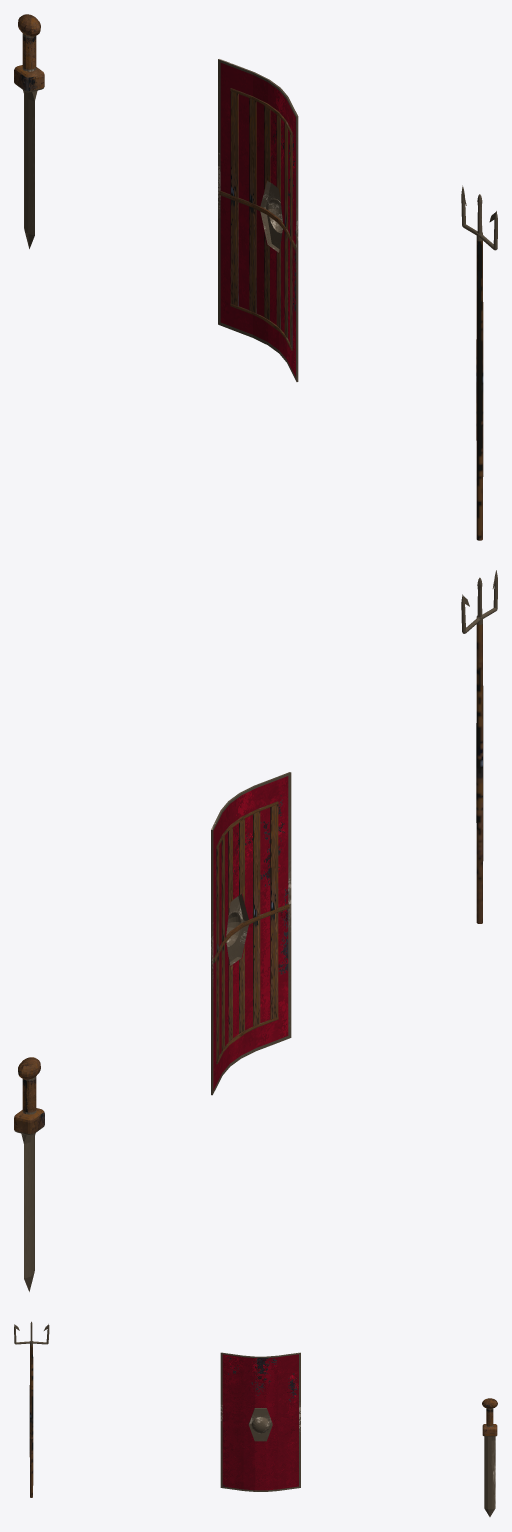
The model's file is Ausrüstung.fbx.
The picture shows the model from 3 angles, top to bottom: view 1: azimuth 30°, elevation 25°; view 2: azimuth 150°, elevation 25°; view 3: azimuth 270°, elevation 25°; orthographic projection. The views are drawn at different scales.
Parts seen in each view (by area): view 1: Scutum, Spatha, Tridens; view 2: Scutum, Spatha, Tridens; view 3: Scutum, Spatha, Tridens.
Part boxes in pixels (x1,y1,x2,y2): Scutum: (218, 59, 298, 381); Spatha: (14, 14, 44, 248); Tridens: (461, 185, 497, 540); Scutum: (211, 772, 291, 1095); Spatha: (14, 1057, 44, 1291); Tridens: (461, 570, 497, 923); Scutum: (220, 1352, 300, 1491); Spatha: (482, 1398, 497, 1516); Tridens: (14, 1321, 49, 1497).
Size of the model in its own units: 22.17 by 189 by 422.
3 materials, 3 textured.
